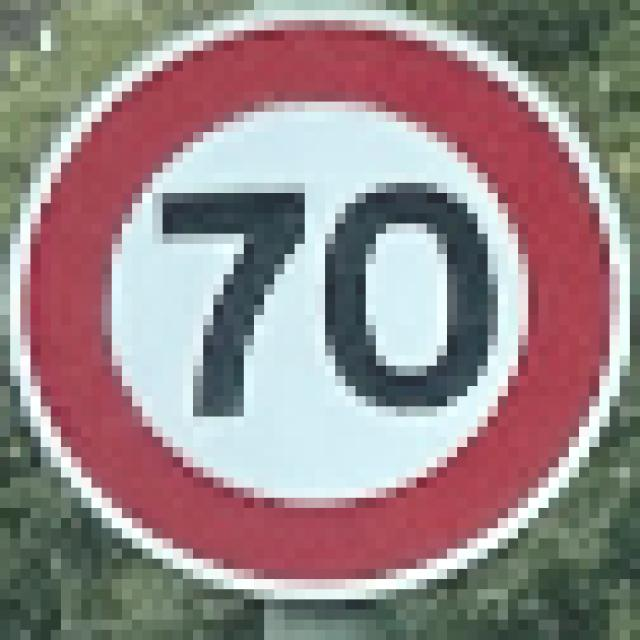speed_70: (0, 0, 630, 606)
